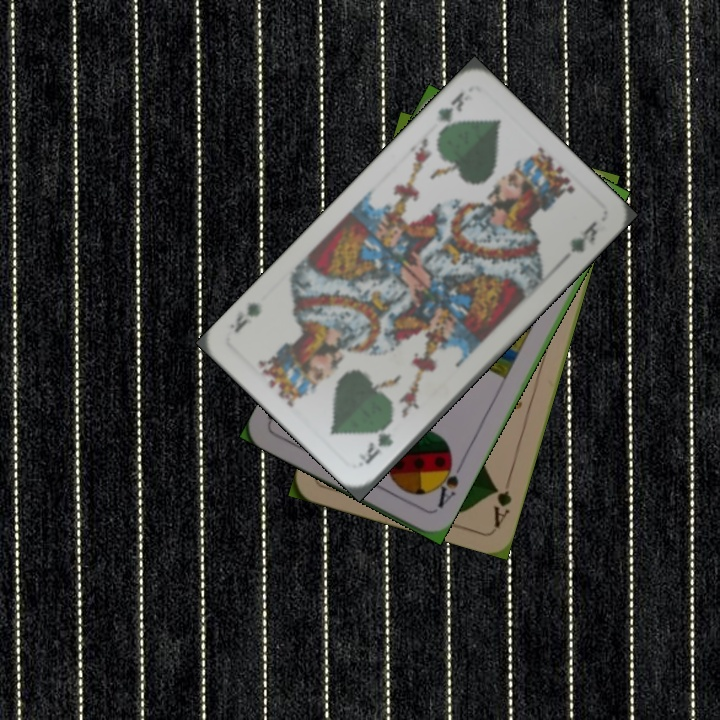GA: (489, 481, 514, 530)
GK: (433, 87, 467, 139), (360, 429, 397, 468)
SA: (429, 454, 466, 511)
